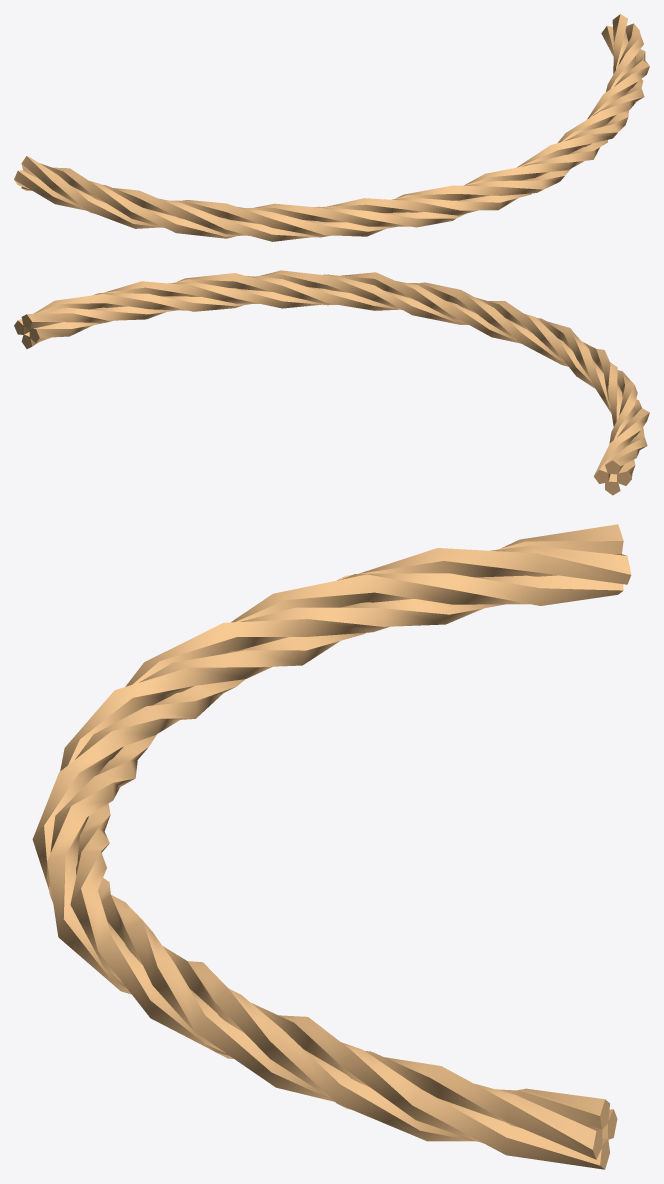
File: Four_Side_Rope_Dip.fbx
3 renders of one model, top to bottom at view 1: azimuth 30°, elevation 25°; view 2: azimuth 150°, elevation 25°; view 3: azimuth 270°, elevation 25°, orthographic. The views are drawn at different scales.
Parts seen in each view (by area): view 1: sweep8; view 2: sweep8; view 3: sweep8.
Part boxes in pixels (x1,y1,x2,y2): sweep8: [14, 14, 649, 241]; sweep8: [14, 270, 649, 495]; sweep8: [32, 524, 631, 1169].
Bounding box in the file's own units: 31.86 × 1.73 × 13.3.
Materials: 1 (1 with a texture image).
